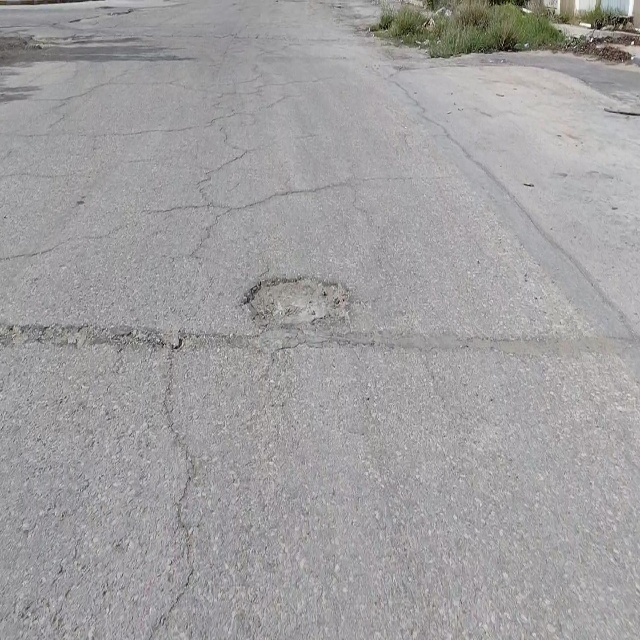pothole: (240, 272, 350, 327)
